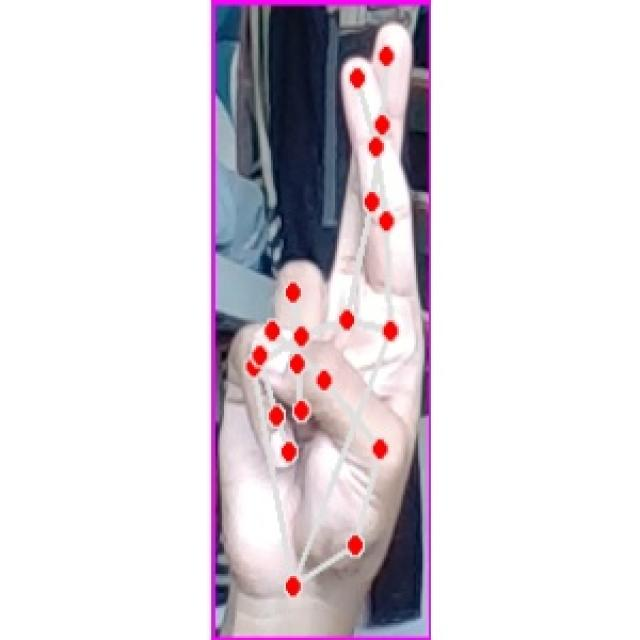R: (224, 26, 425, 614)
